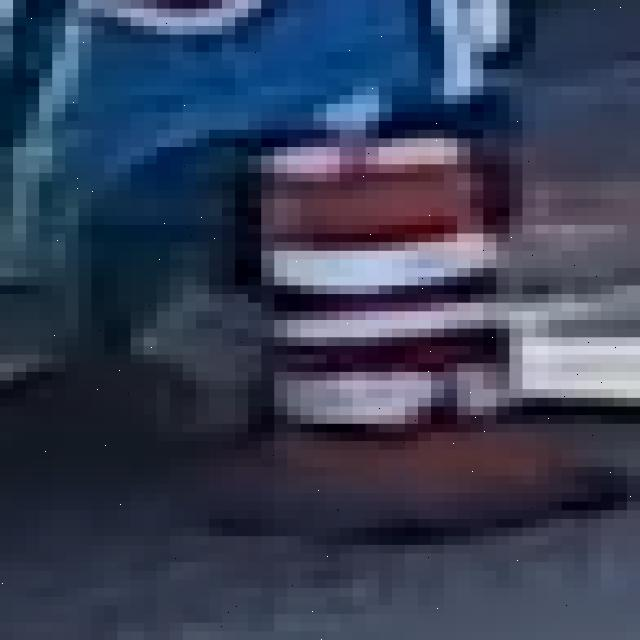big_cone: (261, 145, 498, 502)
